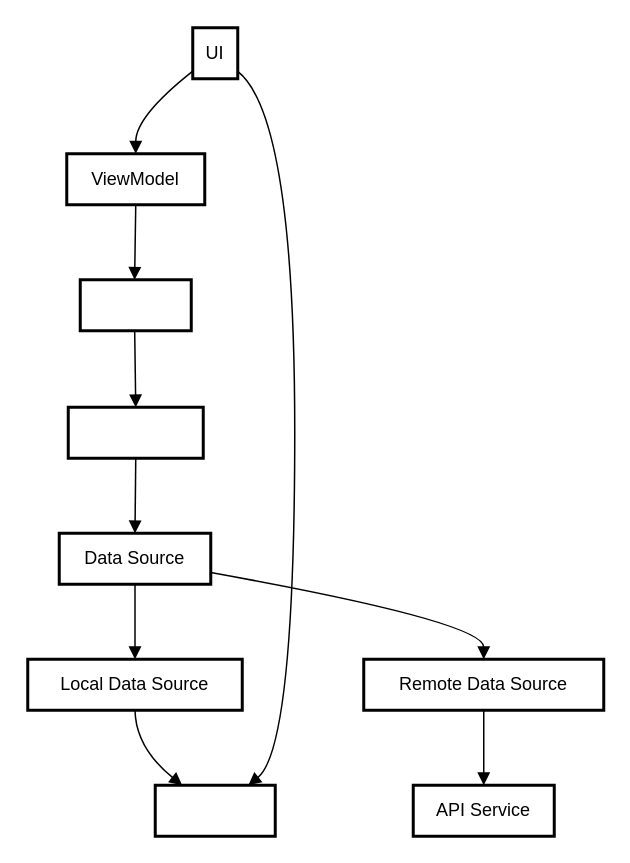
Image size: 630x863. Some labels were removed from this diagram. Each missing label, with the box of its shape:
Database: (153, 783, 276, 837)
Repository: (66, 405, 204, 459)
UseCase: (78, 278, 192, 332)
